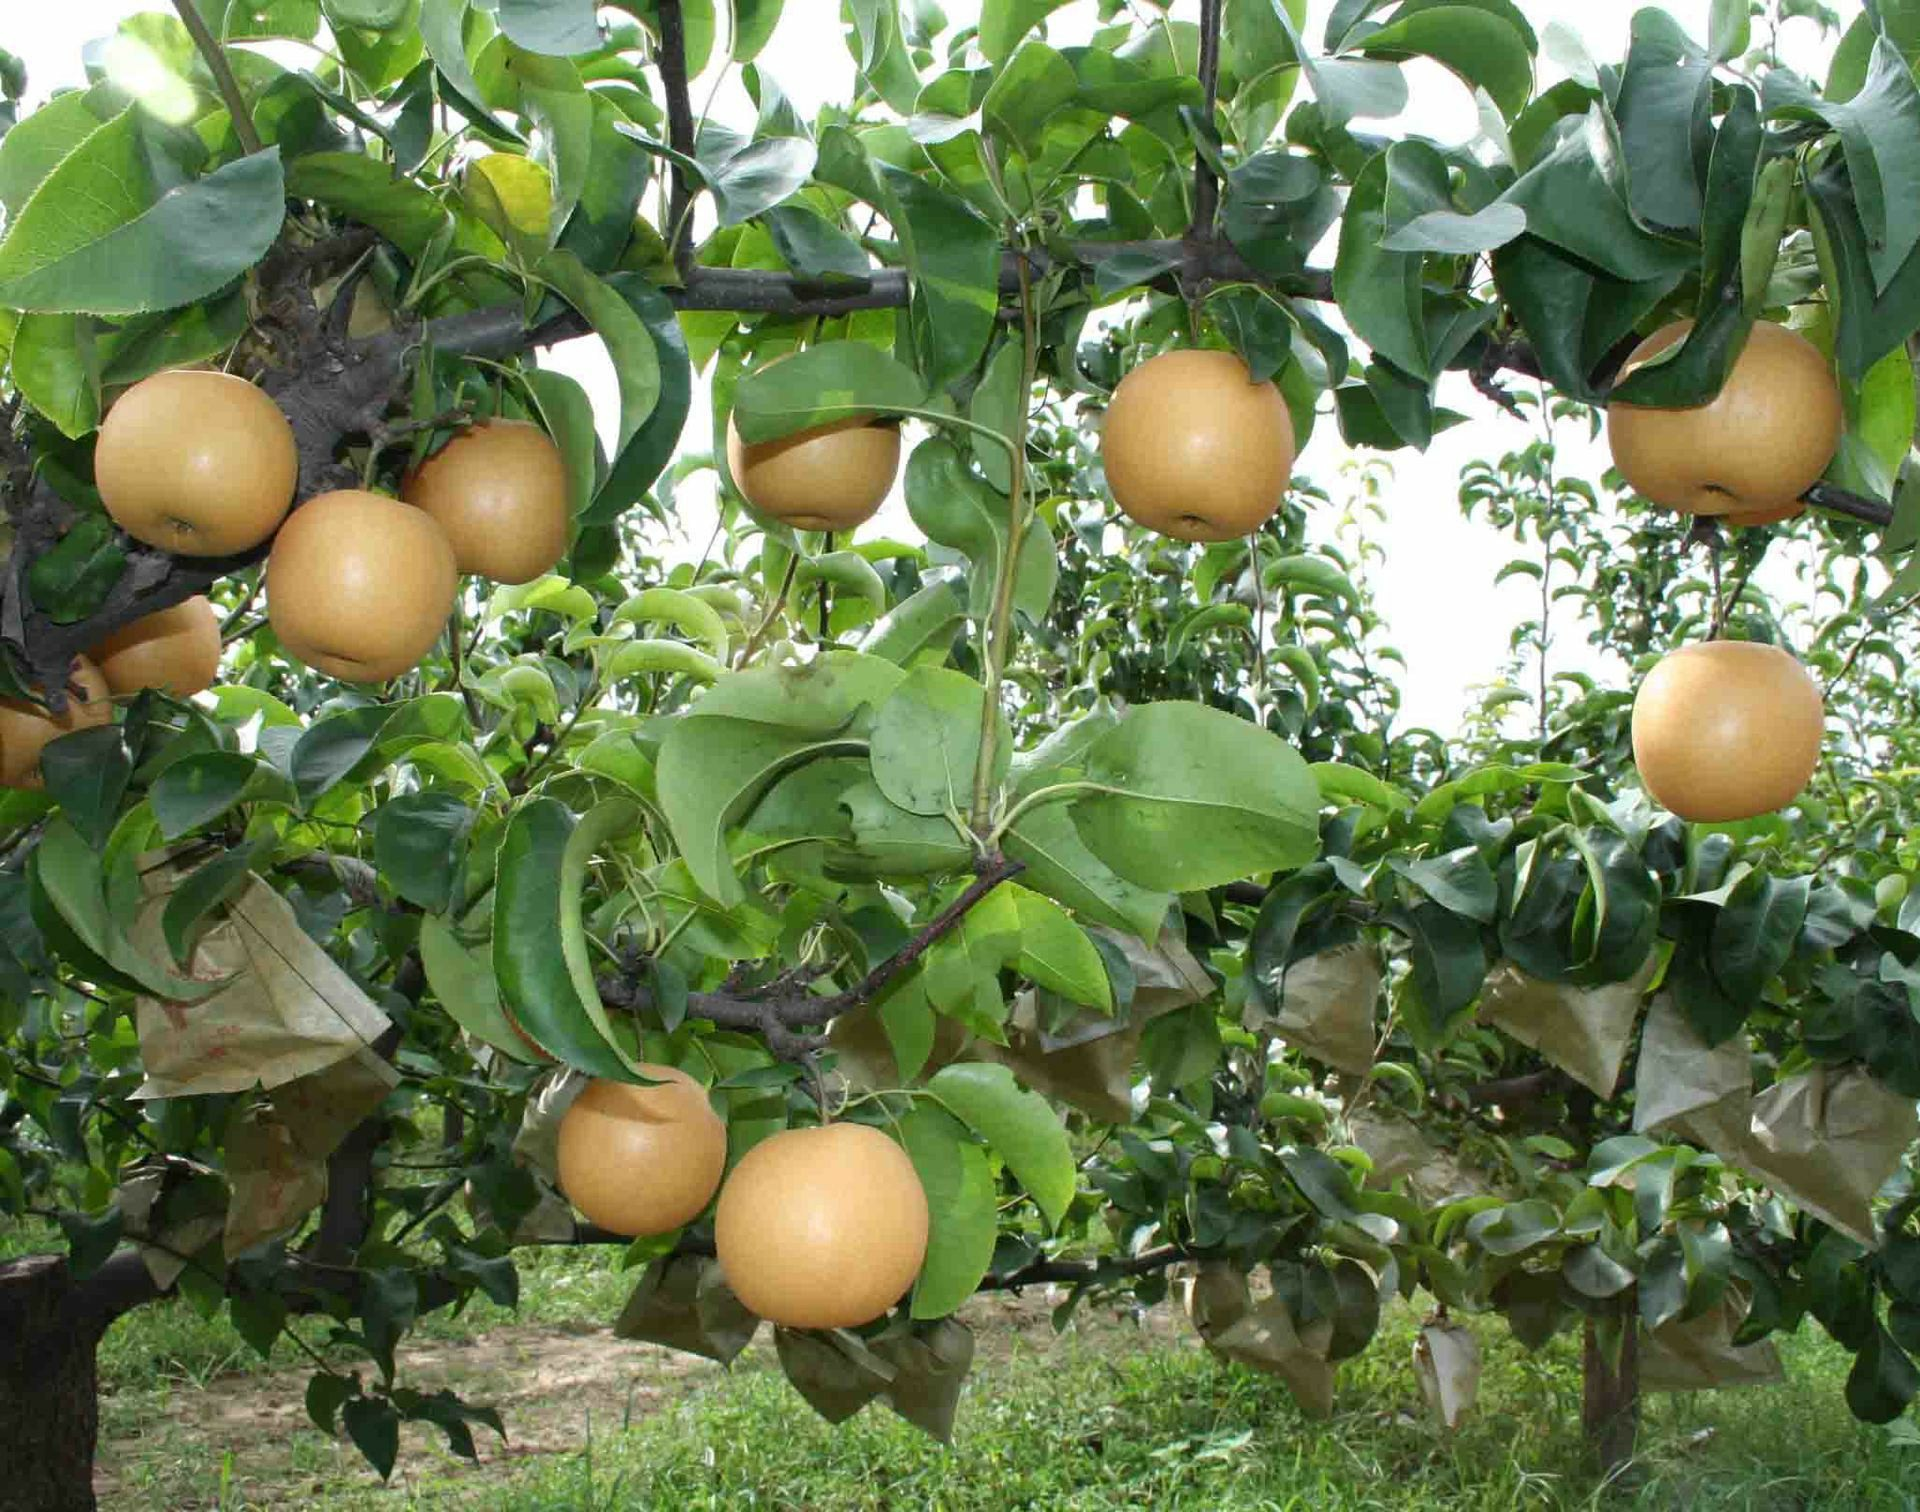pear: (1610, 309, 1841, 525), (715, 1125, 927, 1327), (1094, 348, 1297, 549), (90, 365, 293, 560), (268, 486, 464, 684), (1635, 638, 1830, 820), (399, 413, 580, 592), (723, 351, 902, 528), (553, 1058, 725, 1235), (83, 578, 228, 708), (2, 644, 106, 798)
